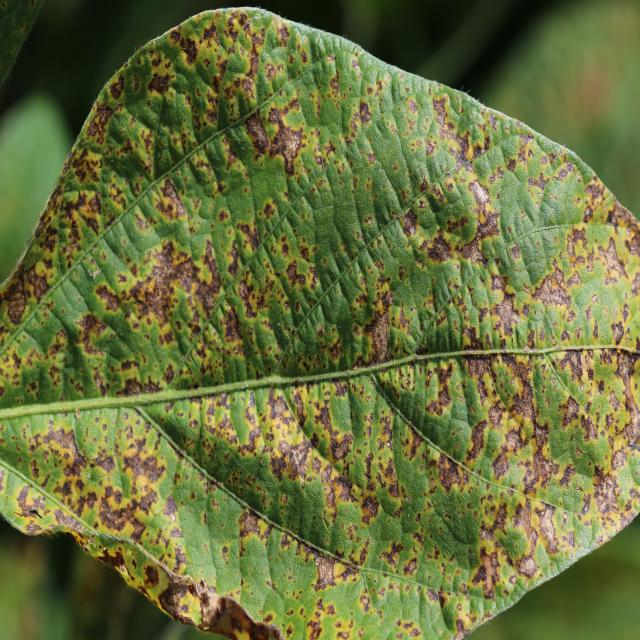Bacterial_Blight: (117, 230, 213, 329), (98, 457, 164, 538), (58, 187, 104, 266), (155, 569, 205, 629), (270, 428, 317, 489), (462, 356, 500, 415), (595, 236, 632, 292), (44, 425, 82, 473), (361, 308, 392, 362), (522, 448, 558, 493), (1, 274, 29, 331), (271, 119, 303, 168), (533, 269, 572, 309), (509, 384, 540, 433), (169, 23, 203, 67), (471, 550, 502, 597), (71, 145, 103, 188), (156, 176, 186, 220), (490, 297, 520, 339), (245, 111, 270, 161), (535, 505, 561, 551), (437, 452, 465, 494), (594, 477, 619, 516), (467, 178, 492, 216), (457, 127, 483, 162), (267, 394, 293, 427), (313, 554, 337, 589), (460, 236, 486, 266), (91, 100, 115, 132), (428, 235, 452, 262), (332, 431, 353, 461), (240, 512, 261, 538), (286, 259, 306, 286), (433, 97, 449, 129), (623, 419, 640, 449), (147, 73, 170, 95), (34, 210, 51, 239), (491, 505, 509, 530), (109, 74, 126, 100), (361, 495, 378, 519), (402, 209, 418, 234), (611, 321, 625, 344), (359, 101, 372, 124), (591, 294, 598, 303)
Soybean: (0, 9, 640, 640)
